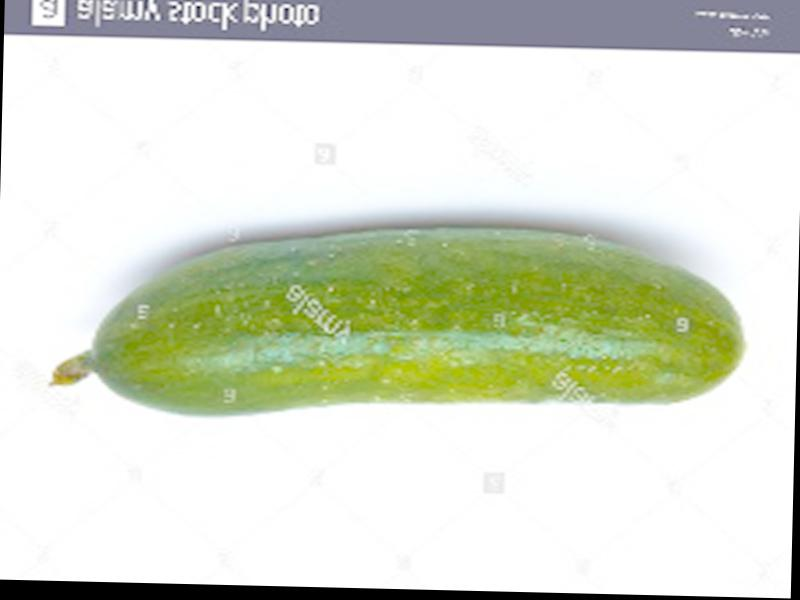Cucumber: (48, 218, 750, 430)
